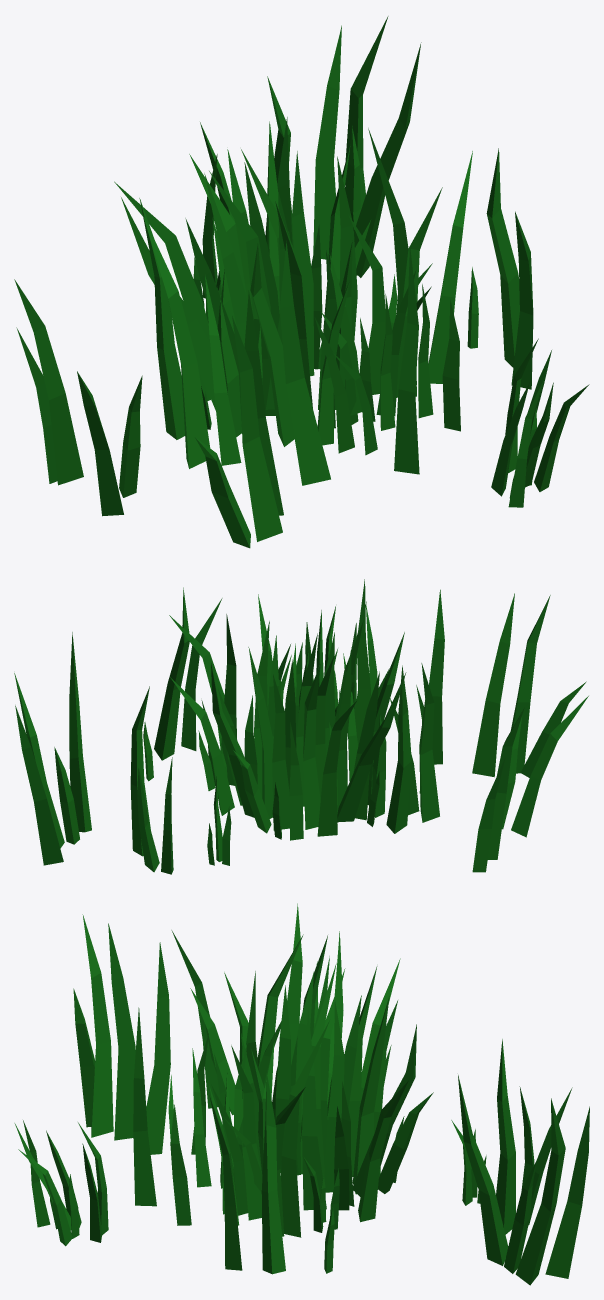
File: greengrass.obj
3 renders of one model, top to bottom at view 1: azimuth 30°, elevation 25°; view 2: azimuth 150°, elevation 25°; view 3: azimuth 270°, elevation 25°, orthographic. The views are drawn at different scales.
Parts seen in each view (by area): view 1: group1744197509, group1681983211, group1697339476, group443349435, group1255547812, group678362861, group908757786, group54891894, group2043014497, group208637188, group2019195407, group1825840008 (+48 smaller); view 2: group343340000, group2043014497, group908757786, group54891894, group1255547812, group612556706, group1697339476, group277299665, group902223660, group1681983211, group46854911, group228620189 (+37 smaller); view 3: group343340000, group1681983211, group1744197509, group54891894, group1661925368, group2043014497, group252032136, group1255547812, group678362861, group1101659140, group619381689, group1072724566 (+44 smaller).
Boxes of the visible parts, bbox=[...] form: group1744197509: bbox=[279, 241, 330, 485]; group1681983211: bbox=[232, 316, 282, 541]; group1697339476: bbox=[143, 215, 210, 468]; group443349435: bbox=[14, 279, 83, 485]; group1255547812: bbox=[313, 25, 341, 259]; group678362861: bbox=[394, 246, 419, 474]; group908757786: bbox=[139, 198, 184, 439]; group54891894: bbox=[486, 148, 519, 367]; group2043014497: bbox=[354, 42, 421, 277]; group208637188: bbox=[428, 151, 472, 383]; group2019195407: bbox=[250, 243, 294, 446]; group1825840008: bbox=[205, 275, 241, 465]; group343340000: bbox=[472, 593, 514, 777]; group2043014497: bbox=[69, 632, 91, 832]; group908757786: bbox=[386, 665, 411, 833]; group54891894: bbox=[154, 587, 189, 760]; group1255547812: bbox=[15, 705, 63, 865]; group612556706: bbox=[303, 664, 320, 829]; group1697339476: bbox=[419, 663, 439, 822]; group277299665: bbox=[337, 672, 406, 822]; group902223660: bbox=[317, 701, 356, 836]; group1681983211: bbox=[510, 595, 550, 773]; group46854911: bbox=[272, 674, 289, 830]; group228620189: bbox=[511, 696, 588, 837]; group343340000: bbox=[108, 923, 135, 1140]; group1681983211: bbox=[82, 914, 113, 1137]; group1744197509: bbox=[146, 942, 170, 1154]; group54891894: bbox=[261, 1072, 285, 1274]; group1661925368: bbox=[515, 1098, 565, 1285]; group2043014497: bbox=[458, 1075, 508, 1265]; group252032136: bbox=[281, 1020, 329, 1237]; group1255547812: bbox=[545, 1106, 589, 1278]; group678362861: bbox=[133, 1007, 156, 1206]; group1101659140: bbox=[496, 1039, 515, 1234]; group619381689: bbox=[302, 1008, 326, 1210]; group1072724566: bbox=[352, 996, 389, 1194].
Bounding box in the file's own units: 0.5831 × 0.2873 × 0.6368.
